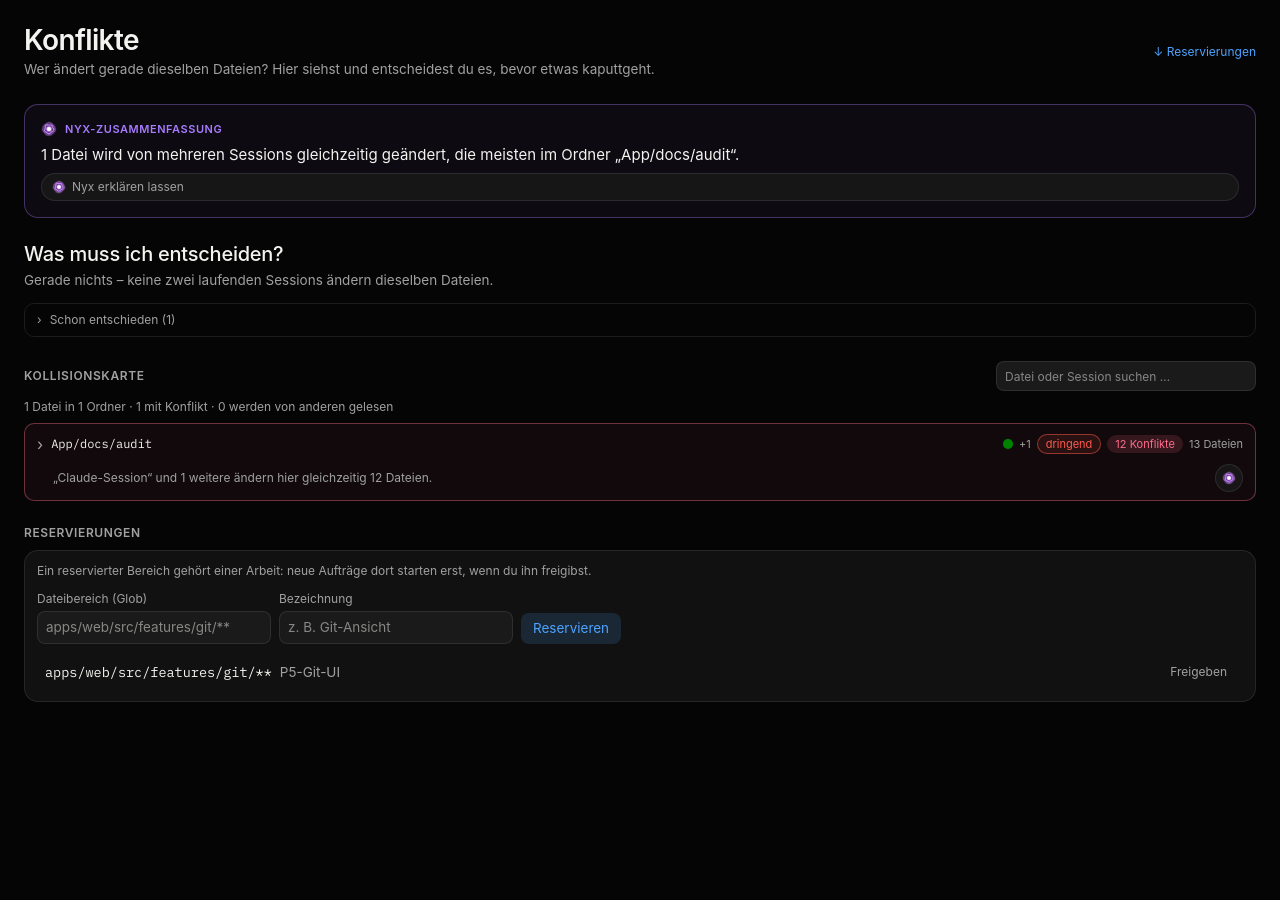
Test: Reservierungen aufheben, „zuerst“-Knöpfe, Suche mit Tipp-Pause › eine hier entstandene Reservierung lässt sich aufheben; Fehler werden gezeigt
This screenshot has width=1280, height=900.
Step 1. Click the button "› Schon entschieden (1)" → [113, 319], box [25,304,1255,336]
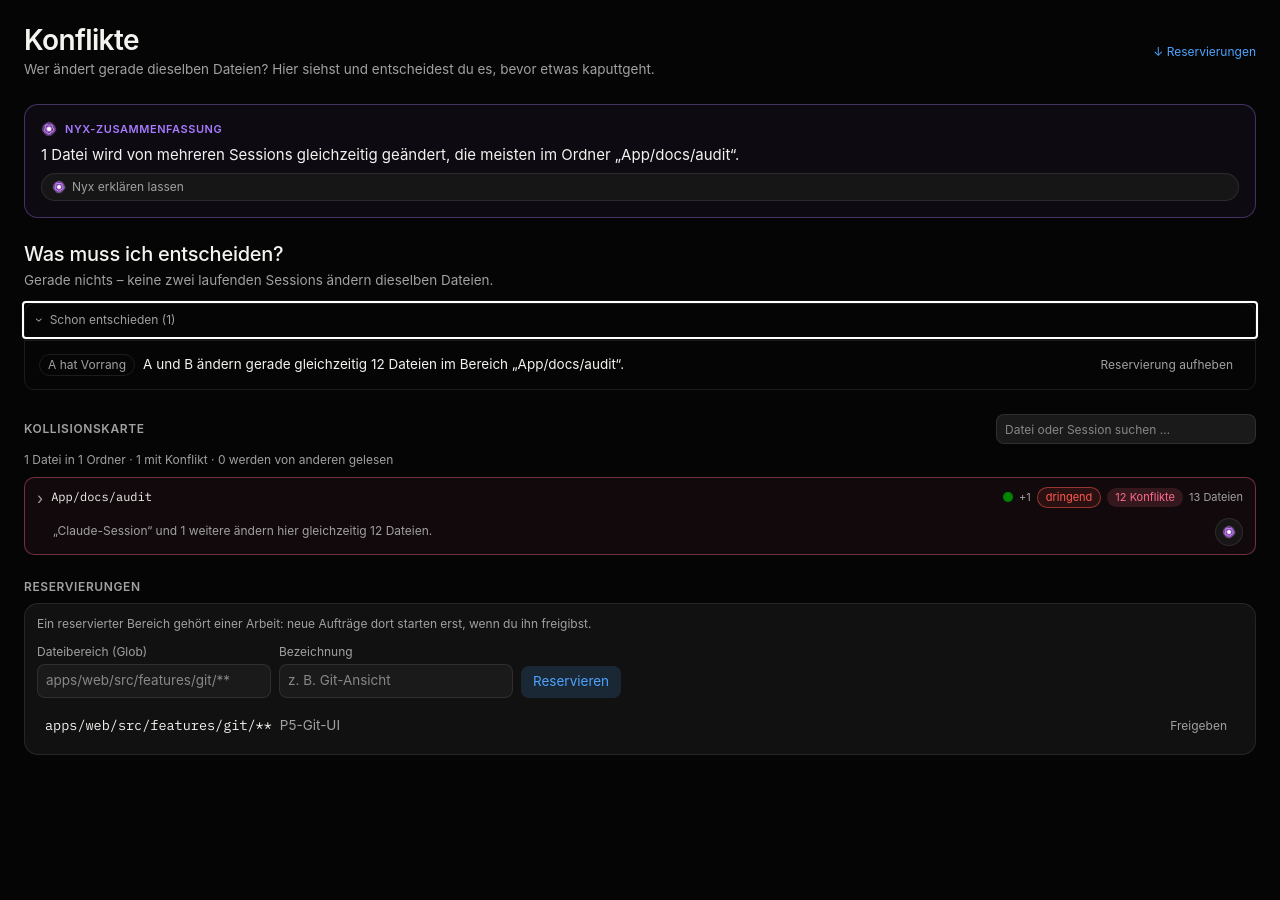
Step 2. Click the button "Reservierung aufheben" → [1167, 365], box [1092,353,1241,377]
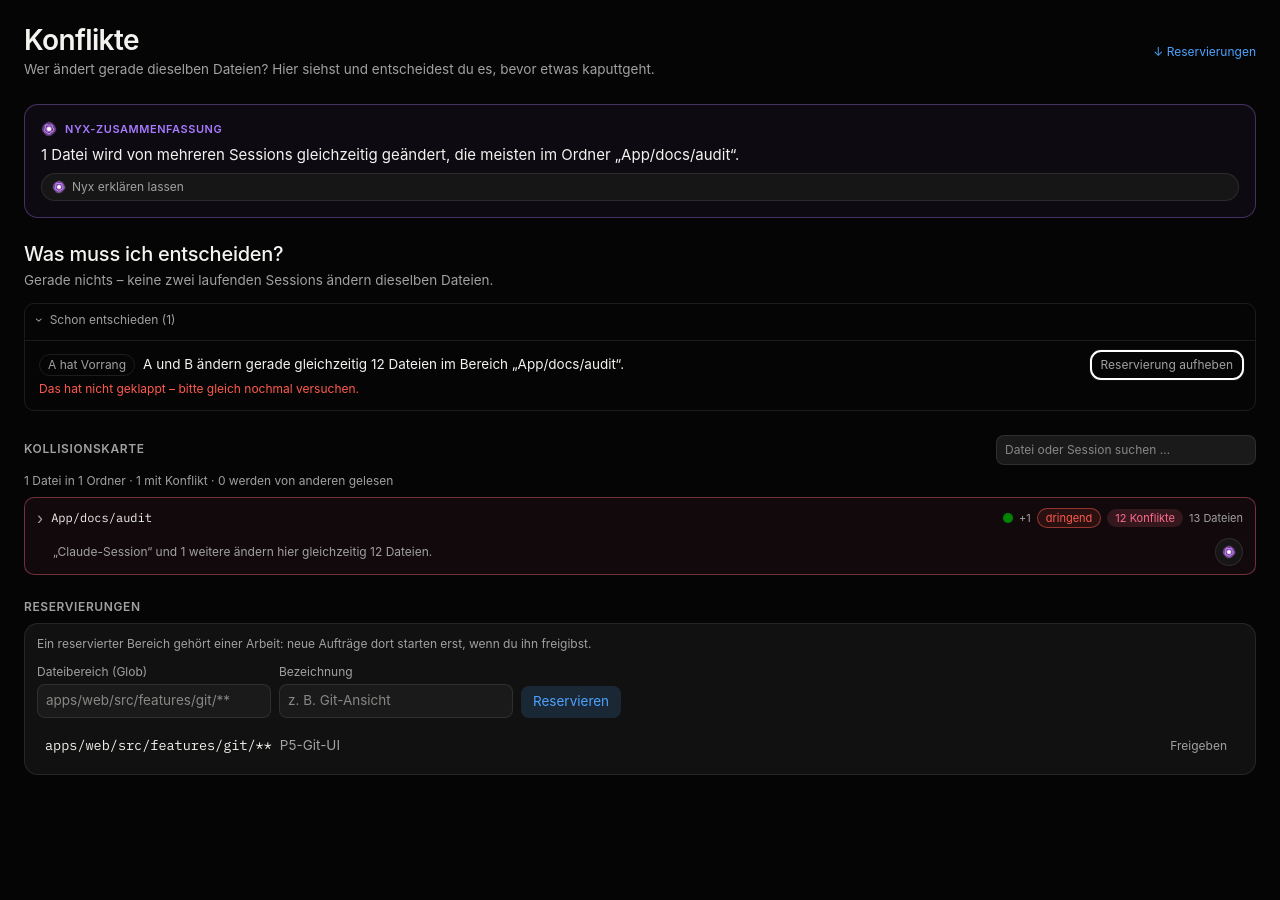
Now the text "Das hat nicht geklappt – bitte gleich nochmal versuchen." is shown, box [39,381,359,396]
